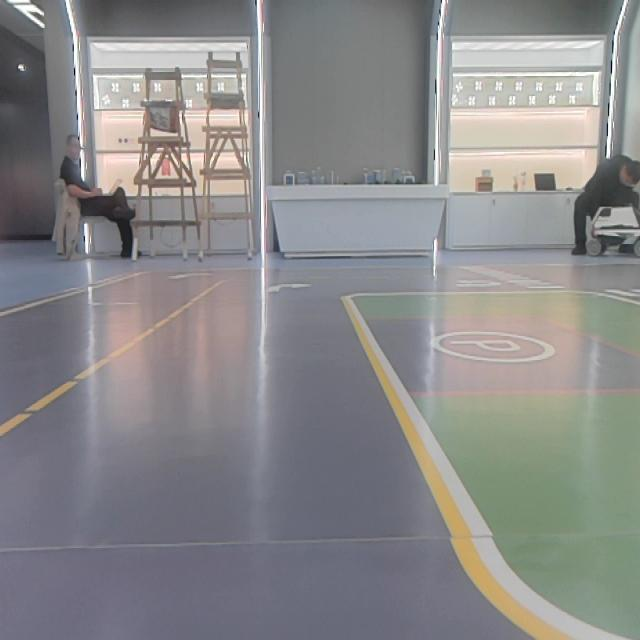left_lane: (0, 286, 206, 441)
right_lane: (341, 308, 481, 554), (0, 273, 119, 323)
